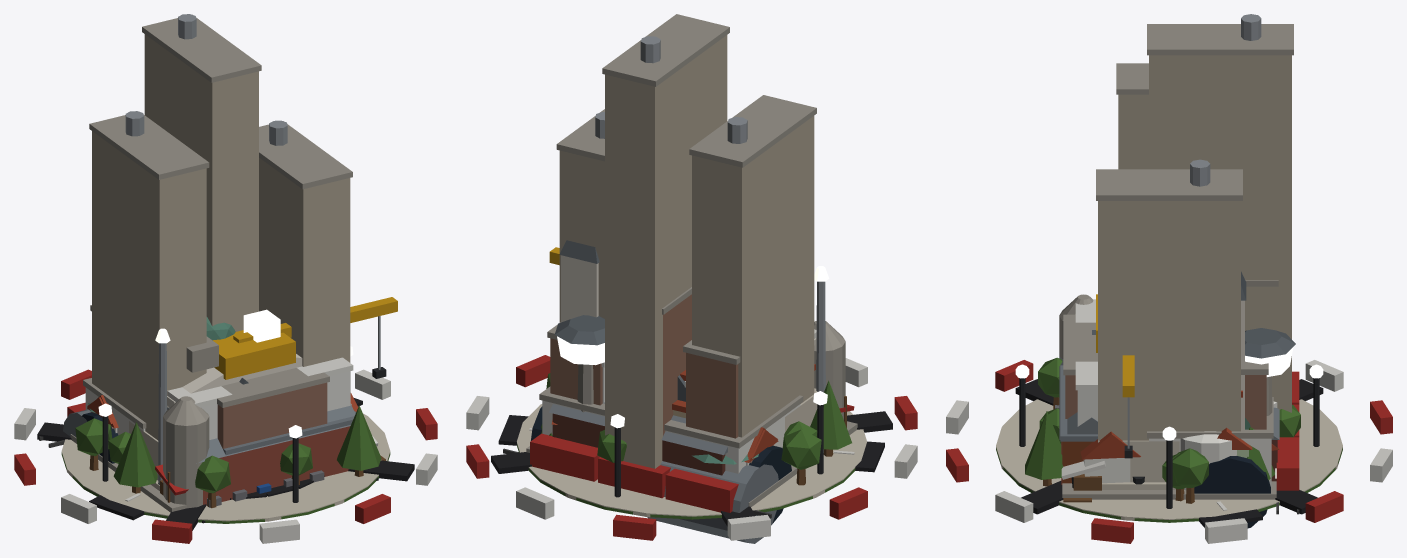
File: monumenti.glb
The picture shows the model from 3 angles, left to right: view 1: azimuth 30°, elevation 25°; view 2: azimuth 150°, elevation 25°; view 3: azimuth 270°, elevation 25°; orthographic projection. The views are drawn at different scales.
Parts seen in each view (by area): view 1: Monumento_SE1.001, Monumento_CS1.001, Monumento_PN2.001, Monumento_PV1.001, Monumento_CR3.001, Monumento_PV2.001, Monumento_PN1.001, Monumento_CR4.001, Monumento_SE3.001, Monumento_PN4.001, Monumento_SE4.001, Monumento_SE2.001 (+3 smaller); view 2: Monumento_SE1.001, Monumento_CS1.001, Monumento_SE3.001, Monumento_PN2.001, Monumento_PN3.001, Monumento_CR3.001, Monumento_PV2.001, Monumento_SE2.001, Monumento_CS2.001, Monumento_PN4.001, Monumento_PN1.001, Monumento_SE4.001 (+1 smaller); view 3: Monumento_SE1.001, Monumento_CS1.001, Monumento_SE3.001, Monumento_CR3.001, Monumento_PN2.001, Monumento_PV1.001, Monumento_PN3.001, Monumento_CR1.001, Monumento_SE4.001, Monumento_PN4.001, Monumento_CR4.001, Monumento_SE2.001 (+5 smaller).
Boxes of the visible parts, <box> form: Monumento_SE1.001: <box>89,14,352,440</box>; Monumento_CS1.001: <box>14,346,437,543</box>; Monumento_PN2.001: <box>90,305,329,448</box>; Monumento_PV1.001: <box>70,297,397,512</box>; Monumento_CR3.001: <box>61,403,390,523</box>; Monumento_PV2.001: <box>196,404,355,505</box>; Monumento_PN1.001: <box>163,396,209,508</box>; Monumento_CR4.001: <box>167,357,353,439</box>; Monumento_SE3.001: <box>14,374,437,542</box>; Monumento_PN4.001: <box>37,422,414,530</box>; Monumento_SE4.001: <box>155,328,356,485</box>; Monumento_SE2.001: <box>83,378,378,523</box>; Monumento_SE1.001: <box>556,14,816,468</box>; Monumento_CS1.001: <box>466,355,917,540</box>; Monumento_SE3.001: <box>466,360,917,540</box>; Monumento_PN2.001: <box>547,287,740,438</box>; Monumento_PN3.001: <box>498,315,884,543</box>; Monumento_CR3.001: <box>517,373,855,519</box>; Monumento_PV2.001: <box>549,402,727,475</box>; Monumento_SE2.001: <box>539,386,803,473</box>; Monumento_CS2.001: <box>559,240,685,401</box>; Monumento_PN4.001: <box>491,411,892,526</box>; Monumento_PN1.001: <box>814,321,845,419</box>; Monumento_SE4.001: <box>814,266,829,392</box>; Monumento_SE1.001: <box>1096,14,1293,440</box>; Monumento_CS1.001: <box>946,360,1392,543</box>; Monumento_SE3.001: <box>946,364,1392,541</box>; Monumento_CR3.001: <box>996,357,1342,522</box>; Monumento_PN2.001: <box>1063,280,1278,429</box>; Monumento_PV1.001: <box>1062,294,1276,499</box>; Monumento_PN3.001: <box>1199,328,1295,527</box>; Monumento_CR1.001: <box>1039,408,1279,501</box>; Monumento_SE4.001: <box>1060,365,1277,489</box>; Monumento_PN4.001: <box>1015,379,1323,514</box>; Monumento_CR4.001: <box>1075,299,1097,426</box>; Monumento_SE2.001: <box>1032,397,1273,492</box>.
Size of the model in its own units: 1.75 by 2.02 by 1.75.
